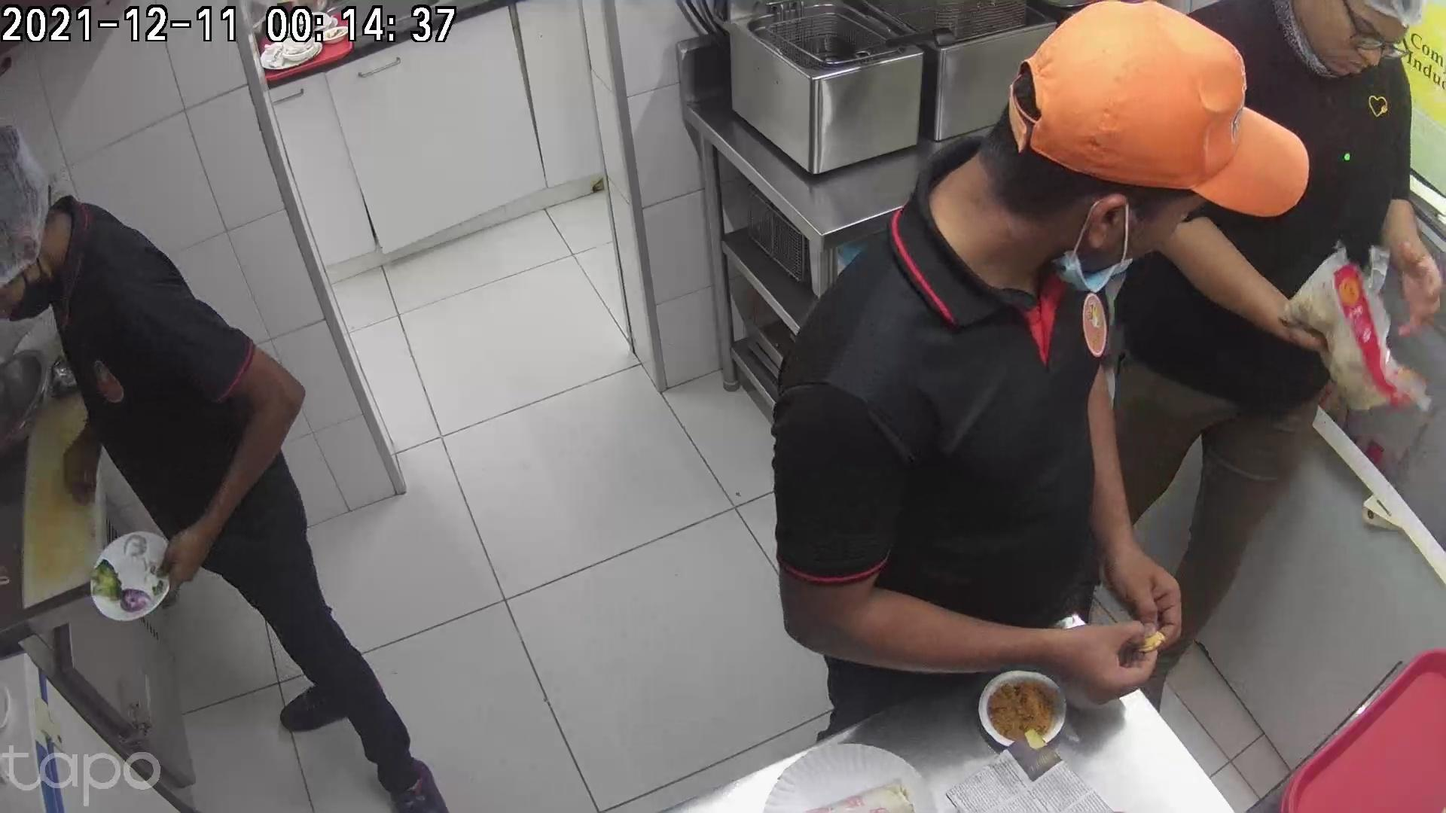no_gloves: (949, 438, 1007, 554)
